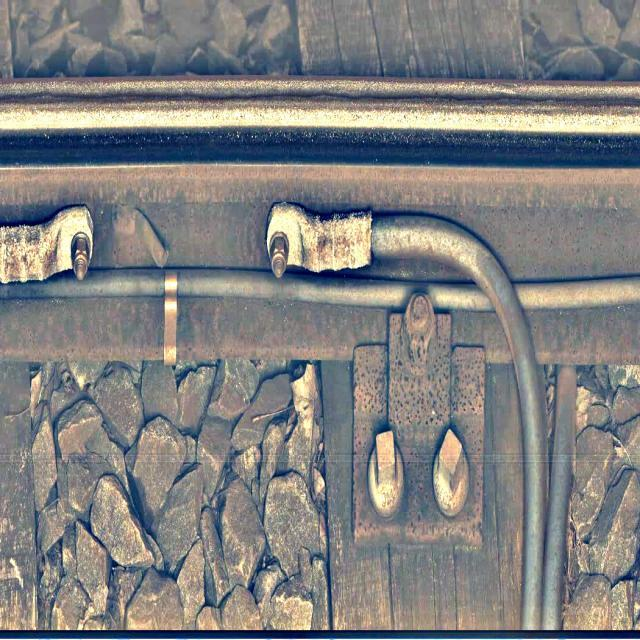Good Fasteners: (353, 294, 484, 545)
